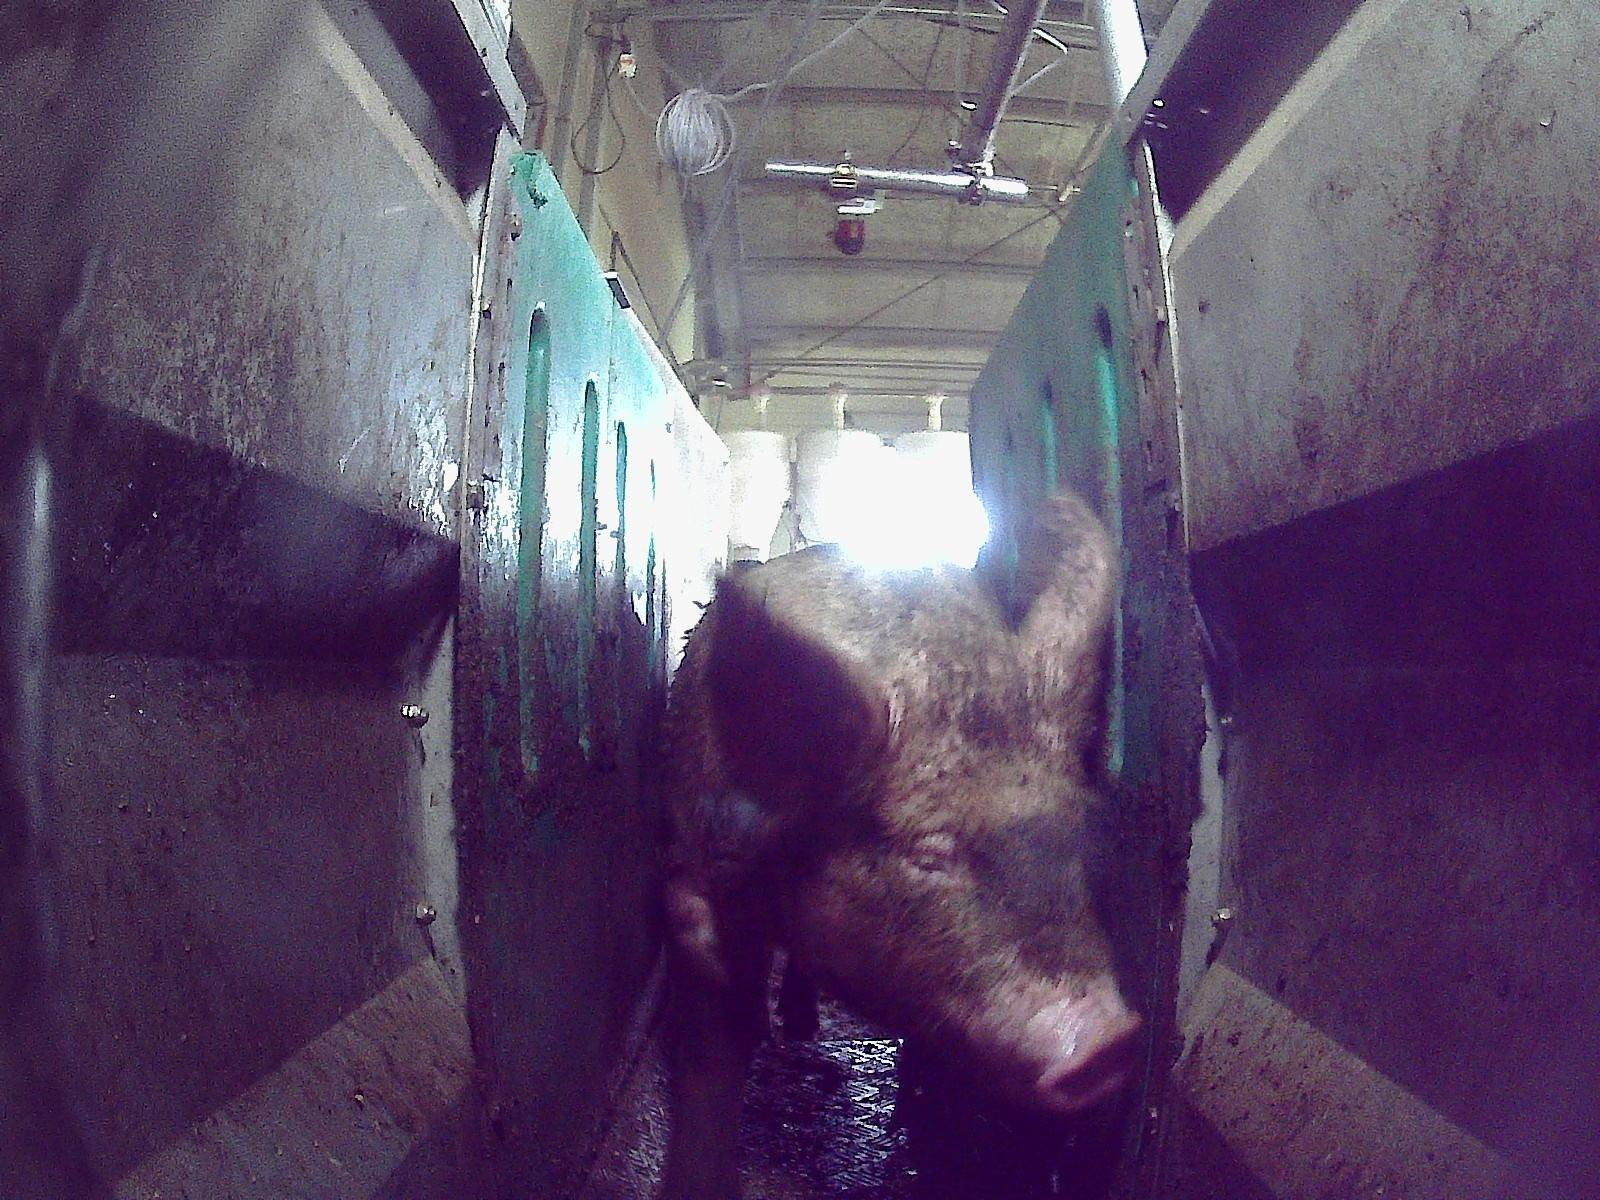Face: (821, 638, 1142, 1120)
